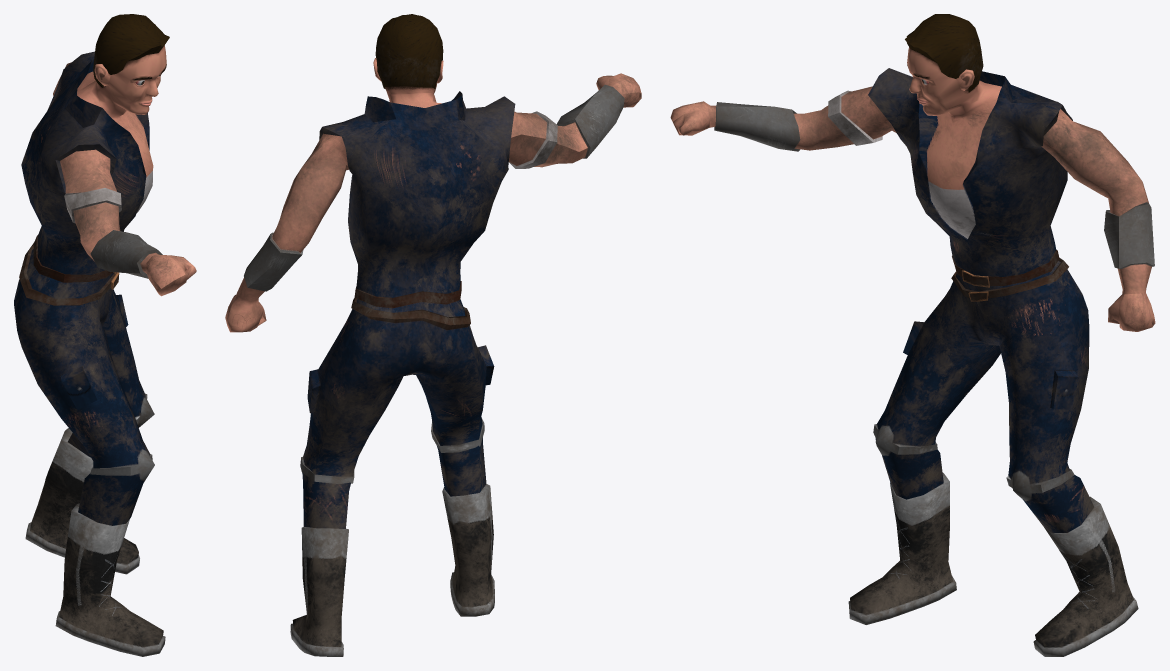
The model's file is Anim_abrir_puerta_ok_jugador.0026.obj.
3 views of the same model, side by side, from view 1: azimuth 30°, elevation 25°; view 2: azimuth 150°, elevation 25°; view 3: azimuth 270°, elevation 25° (orthographic). The views are drawn at different scales.
Visible parts, largest first — view 1: polySurface1; view 2: polySurface1; view 3: polySurface1.
Part boxes in pixels (x1,y1,x2,y2): polySurface1: (14,14,196,656); polySurface1: (225,14,641,656); polySurface1: (670,14,1155,656).
Size of the model in its own units: 3.22 by 9.19 by 6.6.
